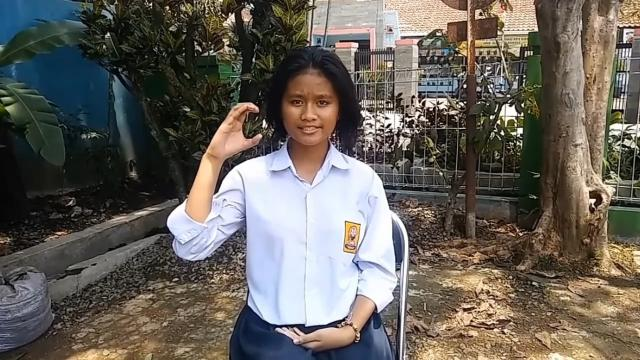C: (205, 102, 263, 162)
